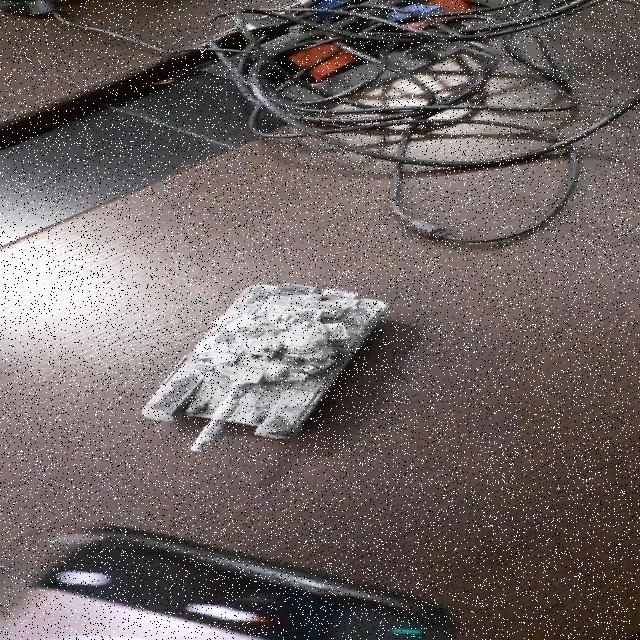MIL_MBT: (128, 275, 399, 462)
